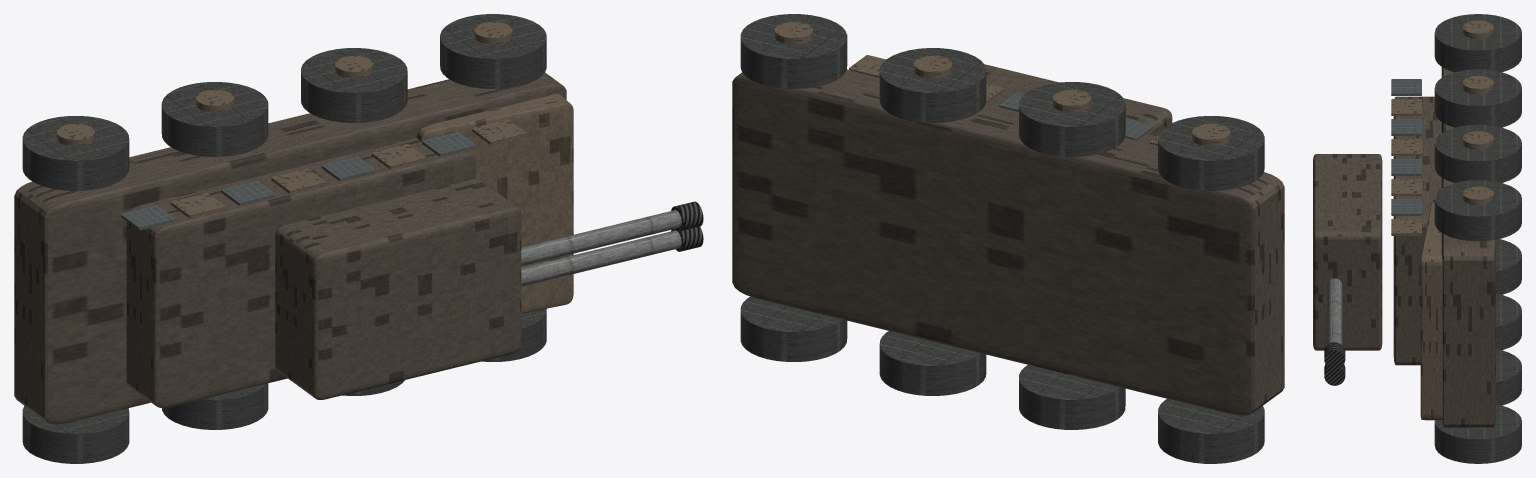
Rendered from d-u12-dominion-assault-vehicle-lod0.glb.
The picture shows the model from 3 angles, left to right: view 1: azimuth 30°, elevation 25°; view 2: azimuth 150°, elevation 25°; view 3: azimuth 270°, elevation 25°; orthographic projection. The views are drawn at different scales.
Parts seen in each view (by area): view 1: assault_turret, chassis_lower, upper_hull, chassis_nose, chassis_wheel_1_0, chassis_wheel_1_1, chassis_wheel_1_3, chassis_wheel_1_2, chassis_wheel_-1_0, chassis_wheel_-1_1, autocannon_barrel_0, autocannon_barrel_1 (+13 smaller); view 2: chassis_lower, chassis_wheel_1_2, chassis_wheel_1_3, chassis_wheel_1_1, chassis_wheel_1_0, chassis_wheel_-1_0, chassis_wheel_-1_2, chassis_wheel_-1_3, chassis_wheel_-1_1, assault_turret, chassis_hub_1_2, chassis_hub_1_0 (+2 smaller); view 3: assault_turret, chassis_lower, upper_hull, chassis_nose, chassis_wheel_1_3, chassis_wheel_1_2, chassis_wheel_1_0, chassis_wheel_1_1, chassis_wheel_-1_3, chassis_wheel_-1_1, chassis_wheel_-1_2, chassis_wheel_-1_0 (+15 smaller).
Boxes of the visible parts, x1=… form: assault_turret: x1=275, y1=179, x2=521, y2=399; chassis_lower: x1=14, y1=72, x2=566, y2=424; upper_hull: x1=126, y1=138, x2=475, y2=408; chassis_nose: x1=416, y1=93, x2=573, y2=313; chassis_wheel_1_0: x1=22, y1=116, x2=129, y2=190; chassis_wheel_1_1: x1=161, y1=82, x2=268, y2=156; chassis_wheel_1_3: x1=440, y1=14, x2=546, y2=88; chassis_wheel_1_2: x1=301, y1=48, x2=407, y2=122; chassis_wheel_-1_0: x1=22, y1=406, x2=129, y2=463; chassis_wheel_-1_1: x1=162, y1=383, x2=268, y2=429; autocannon_barrel_0: x1=521, y1=230, x2=681, y2=286; autocannon_barrel_1: x1=521, y1=210, x2=681, y2=266; chassis_lower: x1=732, y1=70, x2=1284, y2=415; chassis_wheel_1_2: x1=879, y1=48, x2=986, y2=122; chassis_wheel_1_3: x1=740, y1=14, x2=847, y2=88; chassis_wheel_1_1: x1=1019, y1=82, x2=1125, y2=156; chassis_wheel_1_0: x1=1158, y1=116, x2=1264, y2=190; chassis_wheel_-1_0: x1=1158, y1=399, x2=1264, y2=463; chassis_wheel_-1_2: x1=879, y1=331, x2=986, y2=395; chassis_wheel_-1_3: x1=740, y1=296, x2=847, y2=361; chassis_wheel_-1_1: x1=1019, y1=365, x2=1125, y2=429; assault_turret: x1=984, y1=64, x2=1172, y2=136; chassis_hub_1_2: x1=913, y1=56, x2=952, y2=78; chassis_hub_1_0: x1=1192, y1=123, x2=1230, y2=146; assault_turret: x1=1313, y1=154, x2=1382, y2=350; chassis_lower: x1=1441, y1=67, x2=1495, y2=427; upper_hull: x1=1393, y1=96, x2=1441, y2=365; chassis_nose: x1=1420, y1=202, x2=1442, y2=420; chassis_wheel_1_3: x1=1434, y1=180, x2=1521, y2=241; chassis_wheel_1_2: x1=1434, y1=124, x2=1521, y2=182; chassis_wheel_1_0: x1=1434, y1=14, x2=1521, y2=72; chassis_wheel_1_1: x1=1434, y1=69, x2=1521, y2=127; chassis_wheel_-1_3: x1=1434, y1=404, x2=1521, y2=463; chassis_wheel_-1_1: x1=1496, y1=293, x2=1521, y2=350; chassis_wheel_-1_2: x1=1496, y1=349, x2=1521, y2=405; chassis_wheel_-1_0: x1=1496, y1=239, x2=1521, y2=294.
Size of what is drawn, in the model's own units: 6.61 by 3.41 by 2.51.
7 materials, 7 textured.
